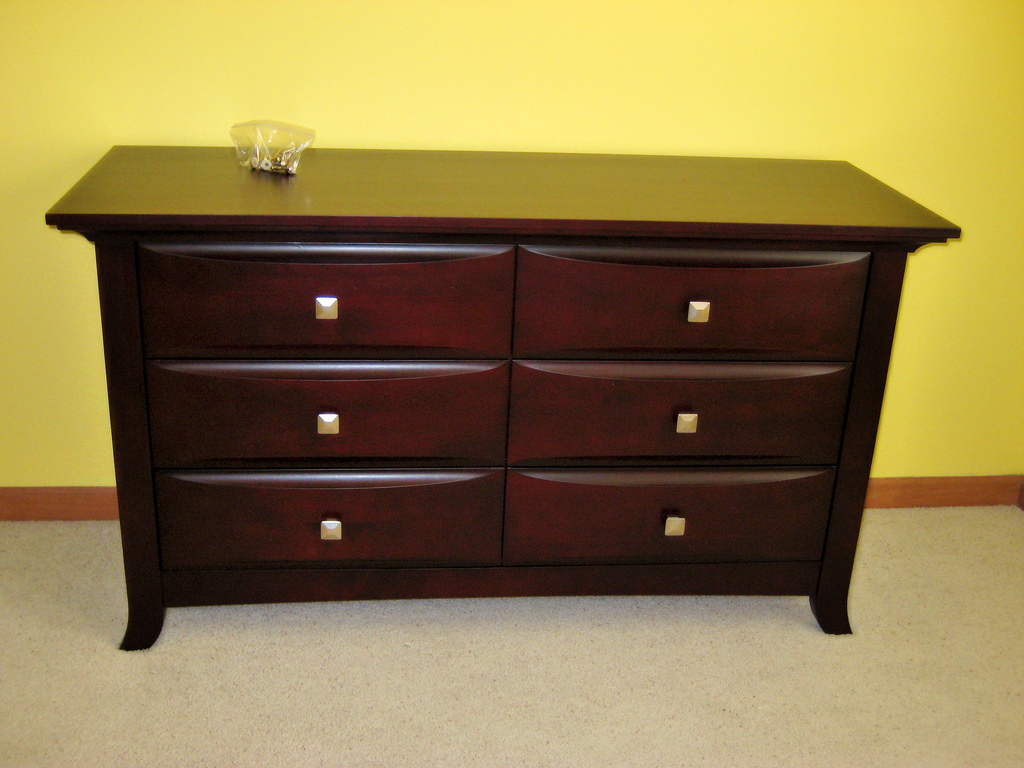cabinet door: (146, 244, 505, 358), (153, 358, 503, 468), (509, 357, 844, 463), (520, 251, 863, 352), (162, 470, 502, 566), (510, 468, 825, 565)
handle: (310, 288, 344, 330), (315, 511, 346, 546), (670, 407, 702, 438), (684, 297, 715, 327), (659, 514, 689, 541), (312, 411, 343, 435)
